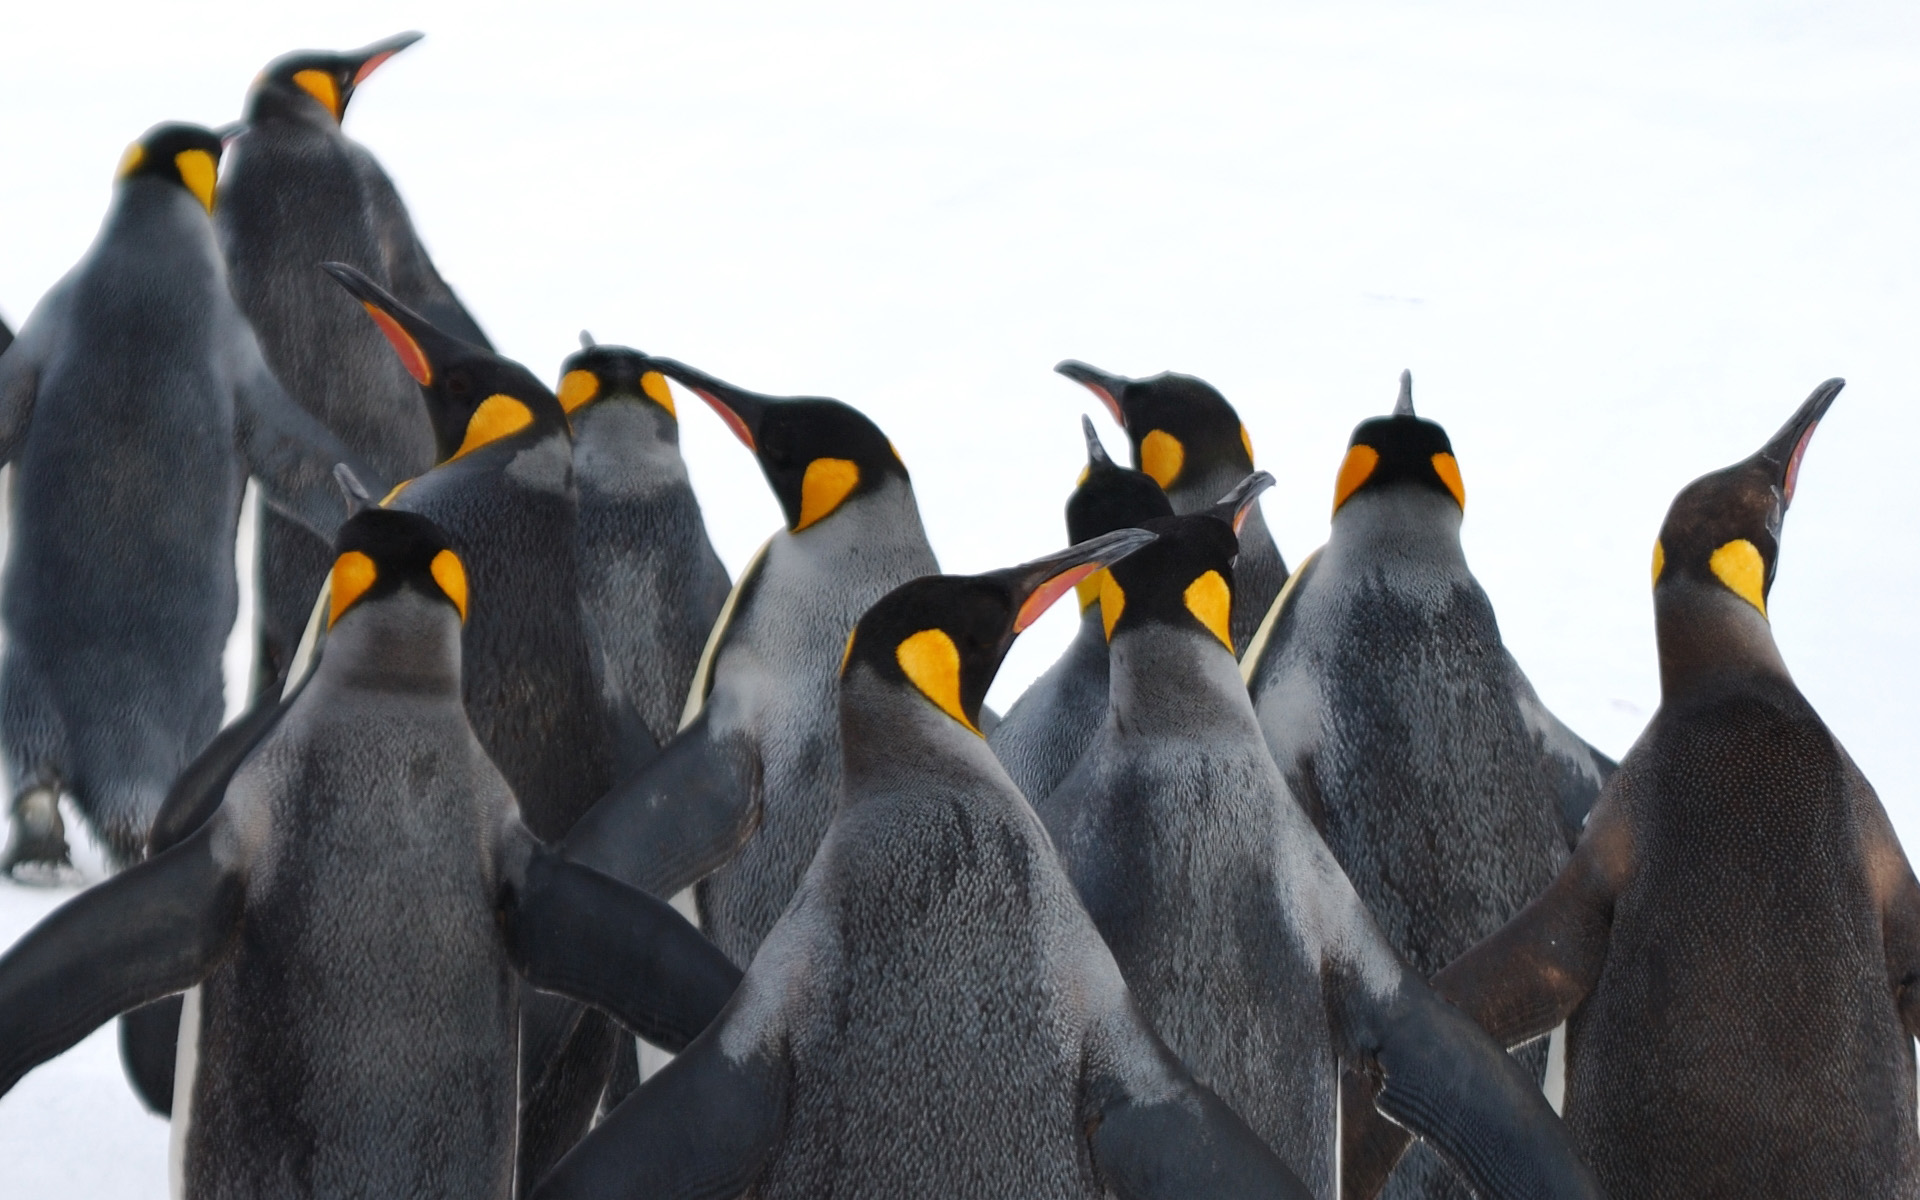penguin: (12, 455, 753, 1199), (534, 523, 1313, 1200), (1427, 376, 1920, 1193), (1116, 465, 1597, 1200), (524, 355, 933, 1070), (6, 129, 383, 896), (1286, 376, 1621, 1023), (206, 30, 487, 737), (1062, 353, 1303, 700), (563, 330, 740, 770)
